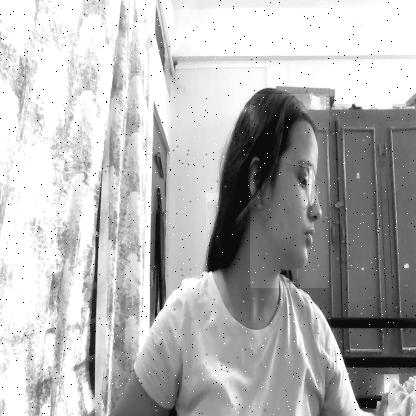Distracted: (250, 94, 329, 288)
